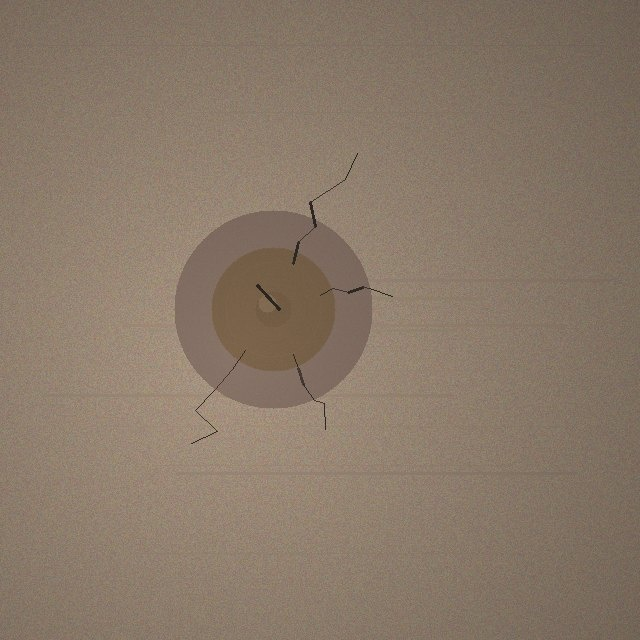crack: (174, 210, 372, 408)
